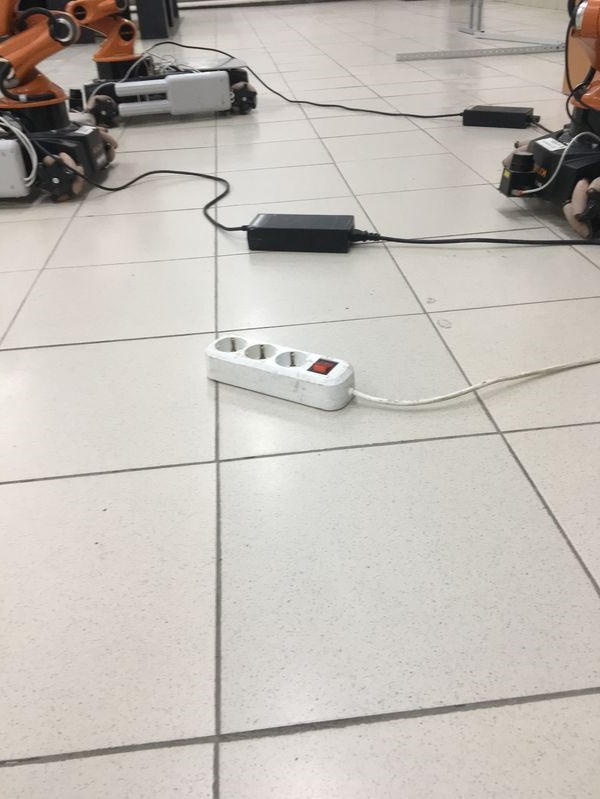socket: (201, 328, 364, 418)
